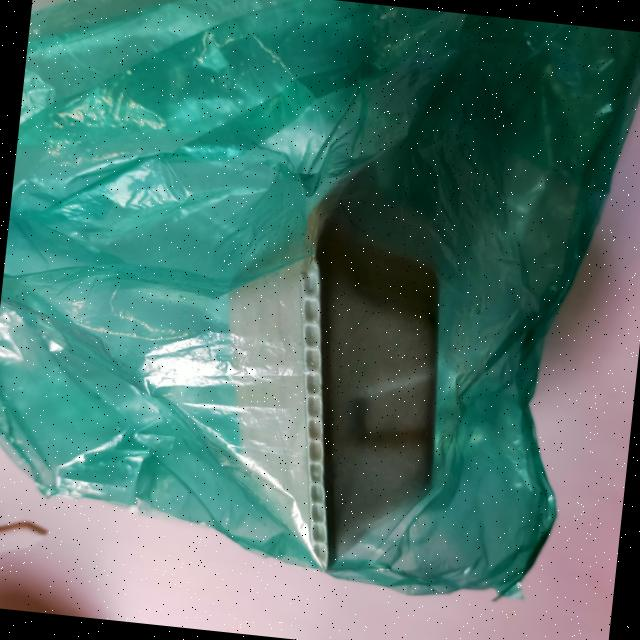styrofoam: (0, 0, 640, 616)
